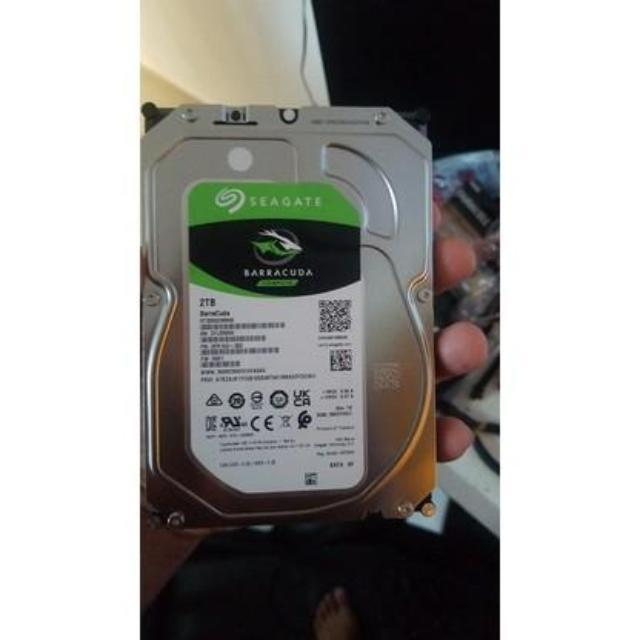DISK: (137, 94, 440, 542)
